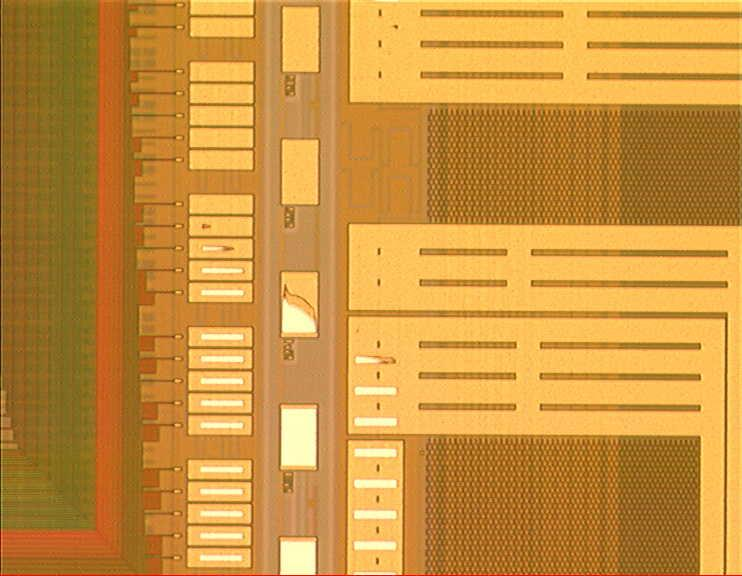COATING BAD: (1, 2, 404, 576)
